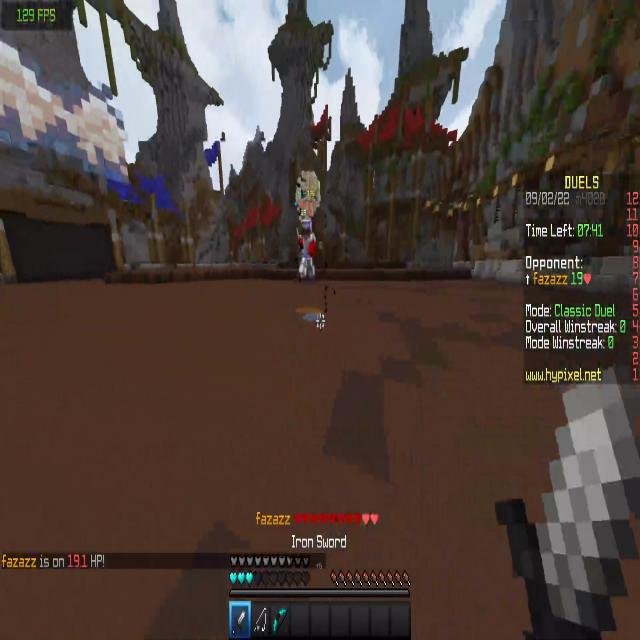Player: (293, 210, 320, 290)
